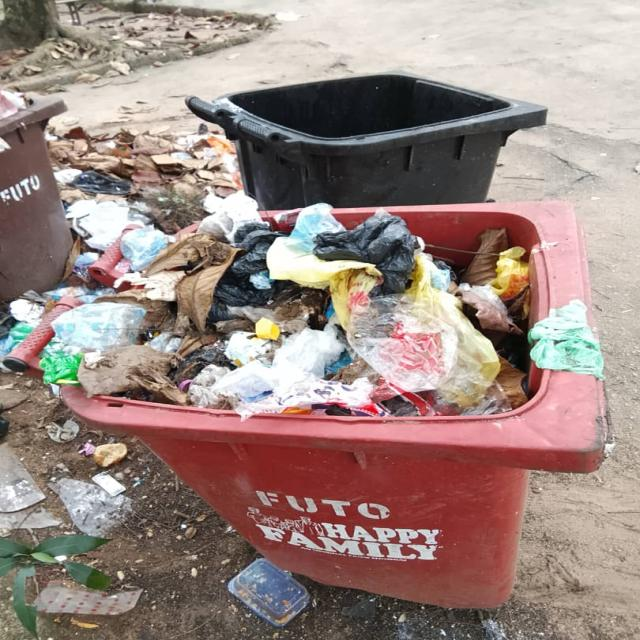empty: (200, 73, 540, 151)
full: (97, 212, 600, 440)
overflowing: (0, 82, 75, 376)
